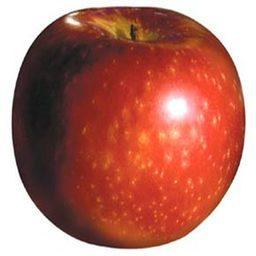apple: (10, 6, 245, 250)
